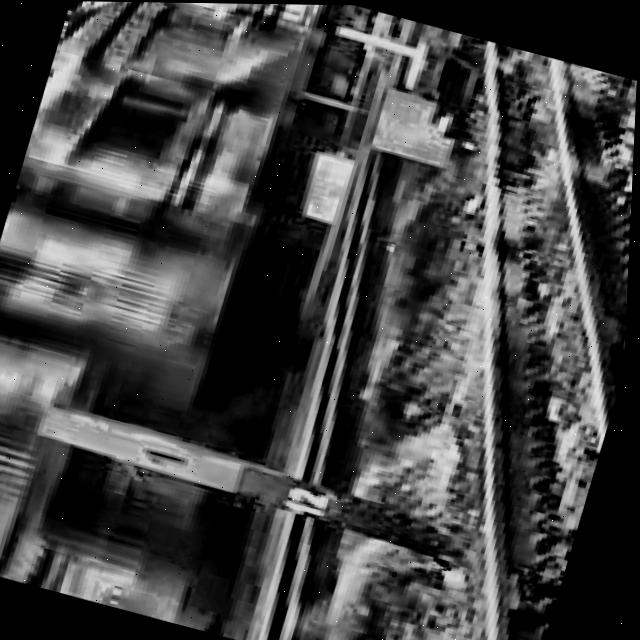Kereta: (0, 160, 265, 407), (13, 49, 298, 259), (45, 1, 325, 144), (86, 1, 332, 54)
Lokomotif: (0, 327, 284, 633)
